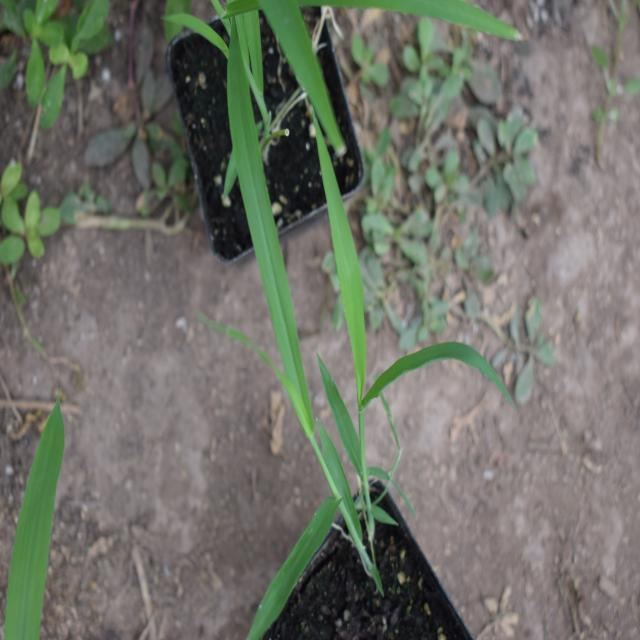crabgrass: (206, 109, 441, 583)
